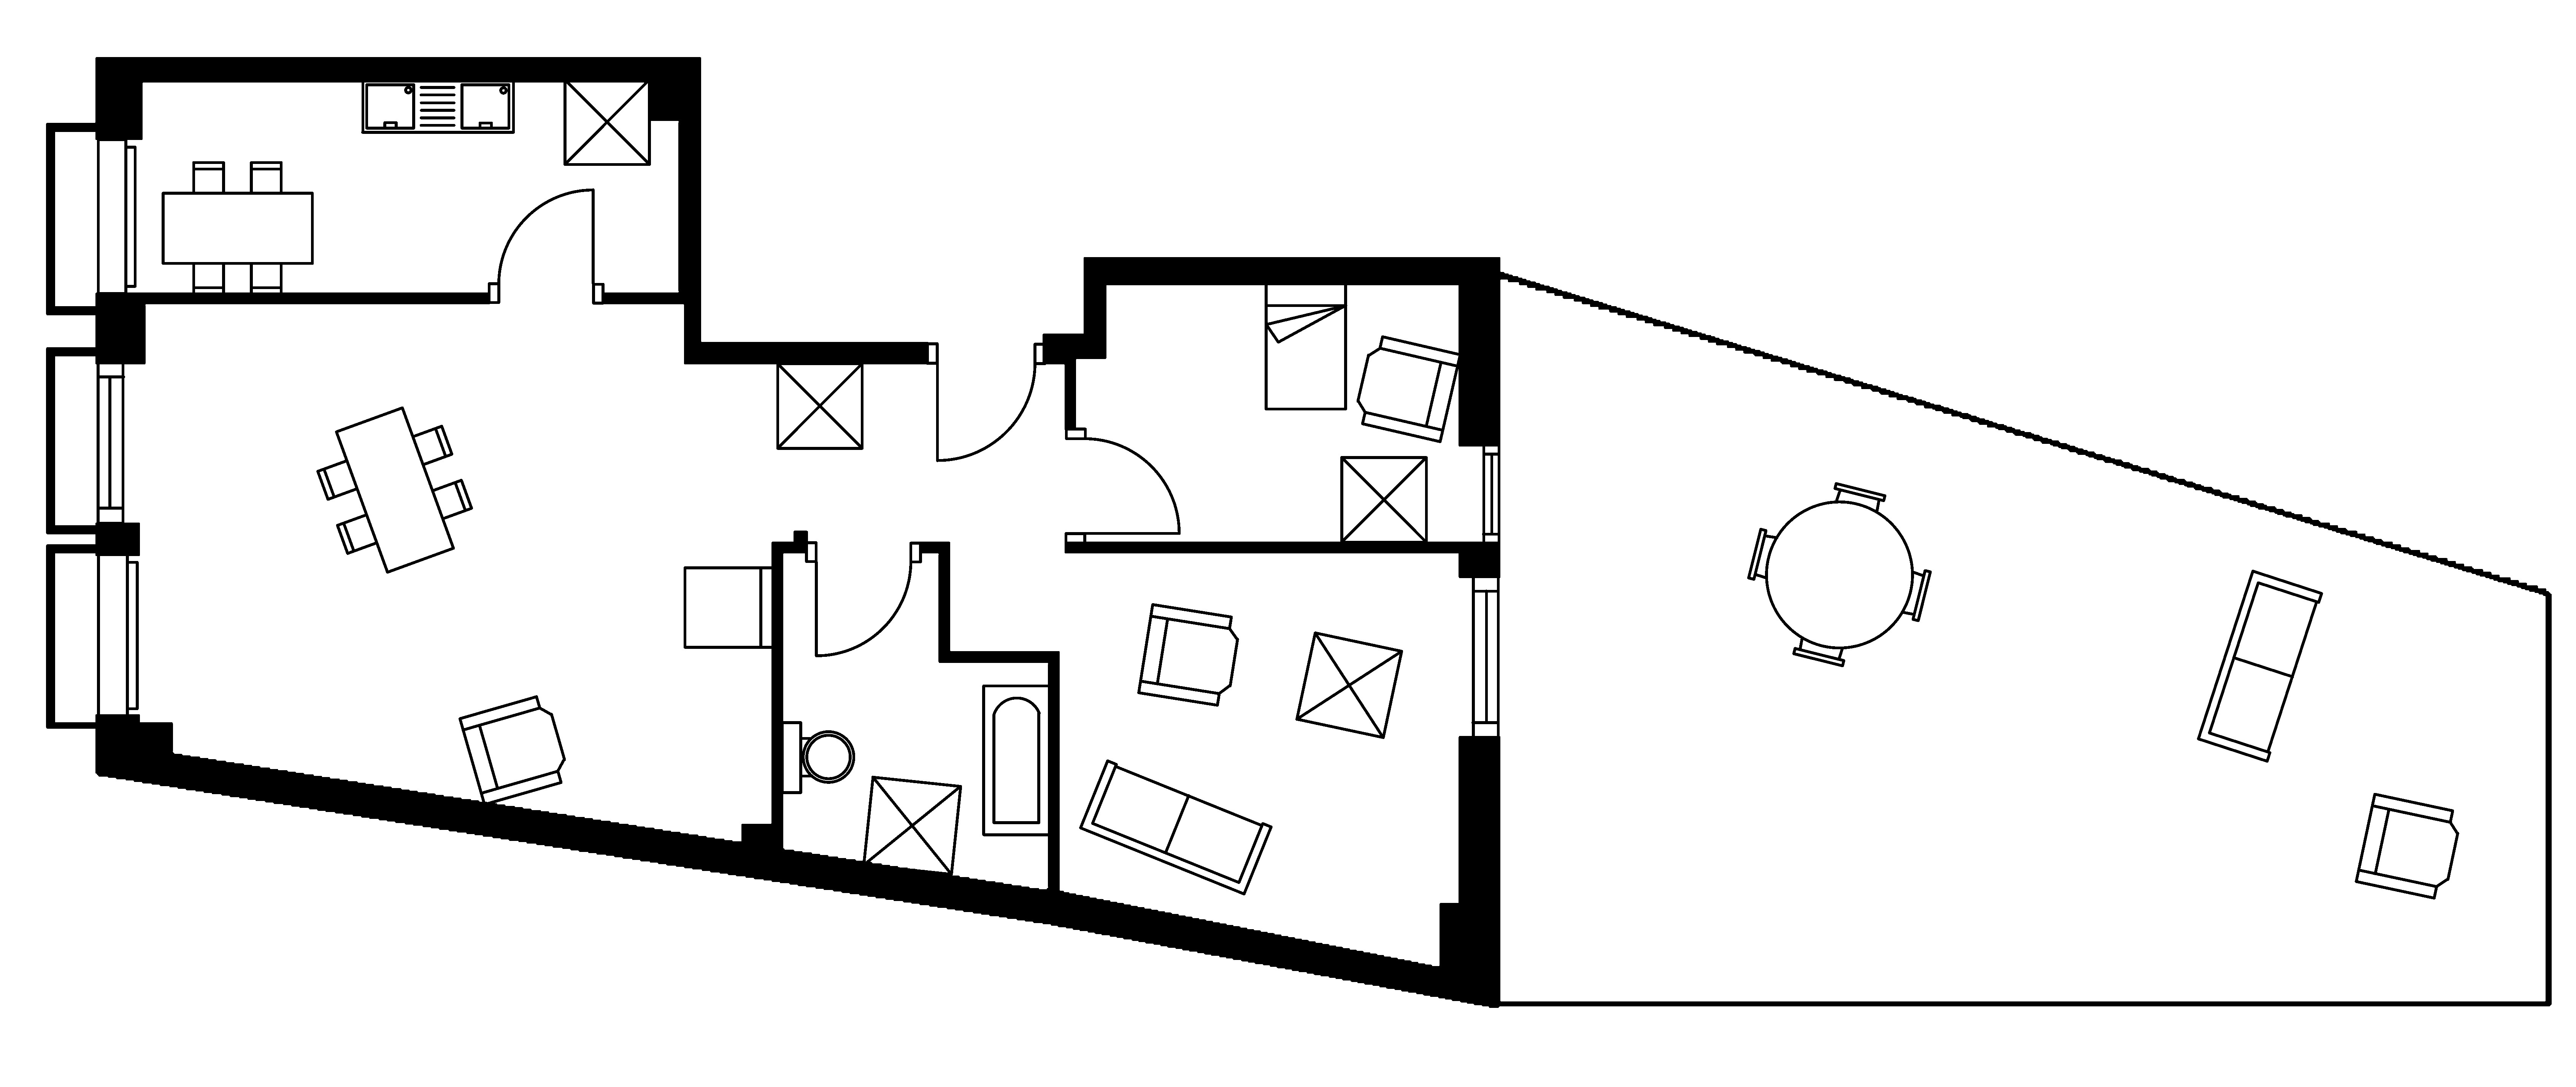armchair: (458, 694, 567, 806), (1355, 335, 1462, 442), (2354, 793, 2459, 900), (1137, 602, 1239, 707)
bed: (1263, 281, 1347, 411)
coffee_table: (1295, 630, 1403, 740), (861, 775, 963, 877), (562, 77, 651, 166), (775, 362, 864, 451), (1339, 456, 1428, 544)
dining_table: (315, 406, 473, 574), (161, 160, 314, 296)
large_sink: (780, 720, 854, 794)
large_sofa: (1078, 758, 1273, 896), (2196, 569, 2323, 763)
round_table: (1746, 482, 1932, 668)
small_sofa: (682, 566, 774, 650)
tub: (981, 684, 1051, 837)
twin_sink: (360, 77, 516, 133)
